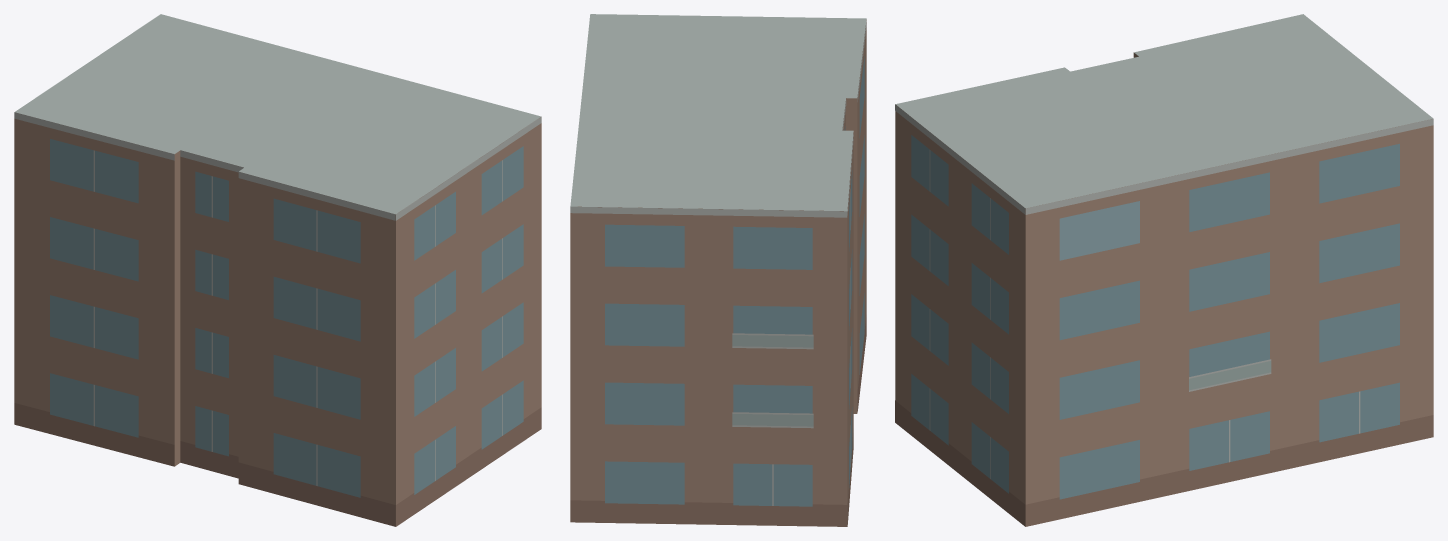
File: survey-upis-32742301.glb
The picture shows the model from 3 angles, left to right: view 1: azimuth 30°, elevation 25°; view 2: azimuth 150°, elevation 25°; view 3: azimuth 270°, elevation 25°; orthographic projection.
Parts seen in each view (by area): view 1: survey-upis-32742301.tmp; view 2: survey-upis-32742301.tmp; view 3: survey-upis-32742301.tmp.
Part boxes in pixels (x1=…): survey-upis-32742301.tmp: x1=14, y1=14, x2=541, y2=526; survey-upis-32742301.tmp: x1=570, y1=14, x2=866, y2=526; survey-upis-32742301.tmp: x1=895, y1=14, x2=1433, y2=526.
Size of the model in its own units: 15.46 by 11.8 by 18.09.
